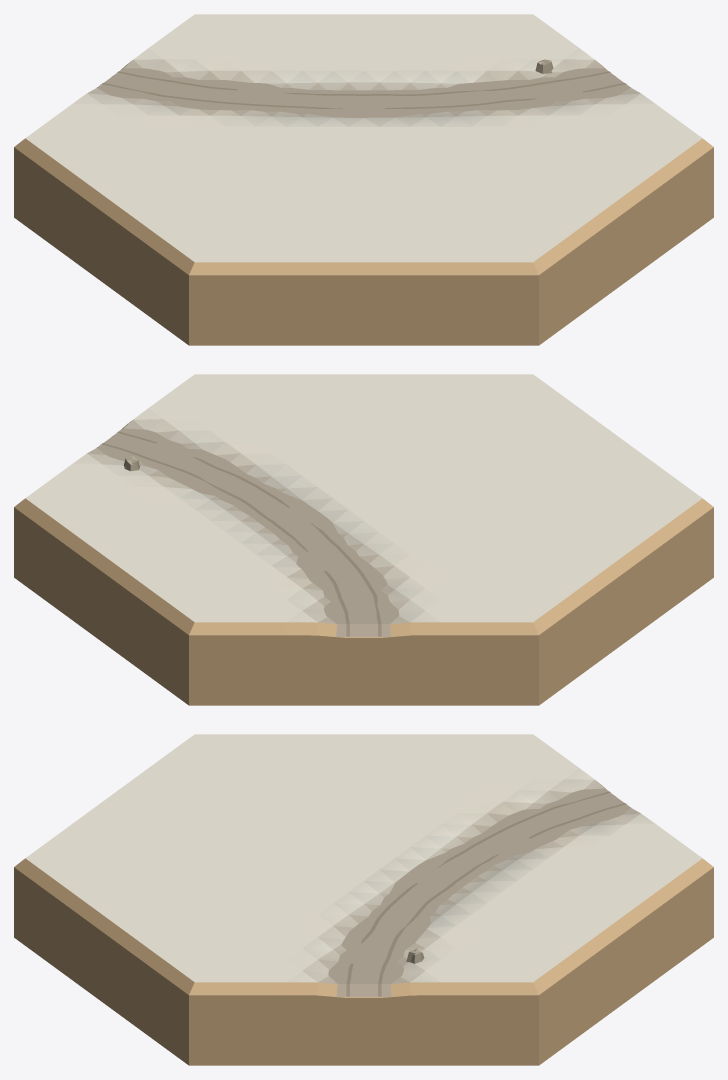
Rendered from road_bend_snow_1.fbx.
3 renders of one model, top to bottom at view 1: azimuth 30°, elevation 25°; view 2: azimuth 150°, elevation 25°; view 3: azimuth 270°, elevation 25°, orthographic.
Visible parts, largest first — view 1: road_bend_snow_1; view 2: road_bend_snow_1; view 3: road_bend_snow_1.
Part boxes in pixels (x1,y1,x2,y2): road_bend_snow_1: (14, 14, 713, 345); road_bend_snow_1: (14, 374, 713, 705); road_bend_snow_1: (14, 734, 713, 1065).
Bounding box in the file's own units: 1.73 × 0.2761 × 2.
